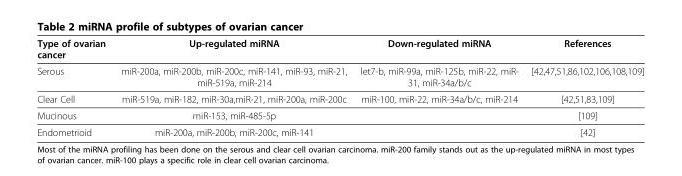table: (36, 37, 643, 137)
table column: (112, 37, 352, 137), (352, 37, 524, 137), (524, 37, 643, 137), (36, 37, 112, 137)
table column header: (36, 37, 643, 62)
table row: (36, 62, 643, 90), (36, 37, 643, 62), (36, 106, 643, 123), (36, 90, 643, 106), (36, 123, 643, 137)
